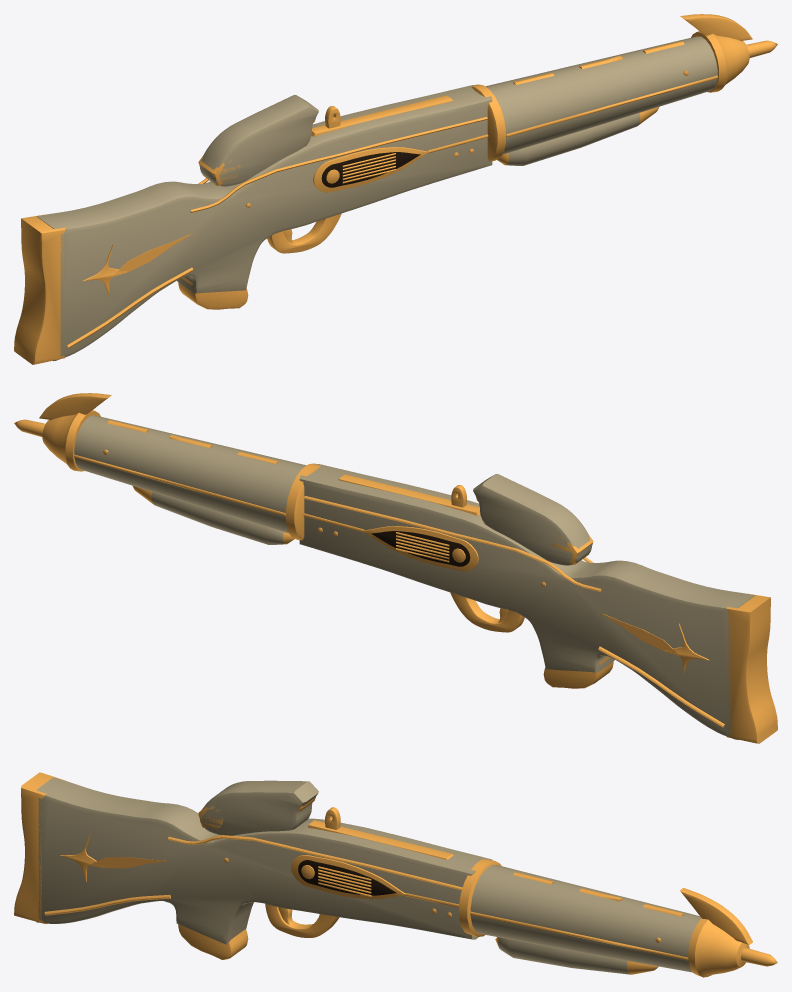
File: raygun_rifle.obj
The picture shows the model from 3 angles, top to bottom: view 1: azimuth 30°, elevation 25°; view 2: azimuth 150°, elevation 25°; view 3: azimuth 330°, elevation 25°; orthographic projection.
Parts seen in each view (by area): view 1: Body_|_stock,_receiver_and_grip, Barrel_shroud, Cowl_|_top_hump, Butt_plate, Under_pod, Nose_cone_and_spike, Vent_|_right_grille, Vent_|_right_gold_frame, Trigger_guard, Receiver_|_right_upper_trim, Coupling_ring, Front_fin (+5 smaller); view 2: Body_|_stock,_receiver_and_grip, Barrel_shroud, Butt_plate, Cowl_|_top_hump, Under_pod, Nose_cone_and_spike, Vent_|_left_grille, Vent_|_left_gold_frame, Trigger_guard, Receiver_|_left_upper_trim, Coupling_ring, Front_fin (+5 smaller); view 3: Body_|_stock,_receiver_and_grip, Barrel_shroud, Cowl_|_top_hump, Butt_plate, Nose_cone_and_spike, Under_pod, Vent_|_right_grille, Front_fin, Vent_|_right_gold_frame, Grip_cap, Receiver_|_right_upper_trim, Trigger_guard (+5 smaller).
Part boxes in pixels (left/top/right/bottom): Body_|_stock,_receiver_and_grip: left=37, top=85, right=492, bottom=361; Barrel_shroud: left=485, top=36, right=717, bottom=154; Cowl_|_top_hump: left=200, top=95, right=318, bottom=186; Butt_plate: left=14, top=214, right=65, bottom=364; Under_pod: left=497, top=106, right=659, bottom=165; Nose_cone_and_spike: left=691, top=31, right=777, bottom=92; Vent_|_right_grille: left=321, top=152, right=420, bottom=187; Vent_|_right_gold_frame: left=313, top=147, right=428, bottom=192; Trigger_guard: left=267, top=213, right=341, bottom=253; Receiver_|_right_upper_trim: left=190, top=117, right=487, bottom=212; Coupling_ring: left=471, top=84, right=505, bottom=161; Front_fin: left=680, top=14, right=752, bottom=40; Body_|_stock,_receiver_and_grip: left=299, top=464, right=754, bottom=740; Barrel_shroud: left=74, top=415, right=306, bottom=533; Butt_plate: left=726, top=593, right=777, bottom=743; Cowl_|_top_hump: left=473, top=474, right=591, bottom=565; Under_pod: left=132, top=485, right=294, bottom=544; Nose_cone_and_spike: left=14, top=410, right=100, bottom=471; Vent_|_left_grille: left=371, top=531, right=470, bottom=566; Vent_|_left_gold_frame: left=363, top=526, right=478, bottom=571; Trigger_guard: left=450, top=592, right=524, bottom=632; Receiver_|_left_upper_trim: left=304, top=496, right=601, bottom=591; Coupling_ring: left=286, top=463, right=320, bottom=540; Front_fin: left=39, top=393, right=111, bottom=419; Body_|_stock,_receiver_and_grip: left=36, top=777, right=492, bottom=944; Barrel_shroud: left=470, top=865, right=701, bottom=972; Cowl_|_top_hump: left=200, top=780, right=318, bottom=835; Butt_plate: left=14, top=772, right=64, bottom=923; Nose_cone_and_spike: left=688, top=918, right=777, bottom=977; Under_pod: left=495, top=937, right=658, bottom=974; Vent_|_right_grille: left=298, top=860, right=396, bottom=895; Front_fin: left=680, top=888, right=752, bottom=944; Vent_|_right_gold_frame: left=291, top=855, right=405, bottom=899; Grip_cap: left=178, top=924, right=248, bottom=959; Receiver_|_right_upper_trim: left=168, top=835, right=462, bottom=890; Trigger_guard: left=265, top=904, right=339, bottom=937.
Size of the model in its own units: 1 by 0.2456 by 0.0889.
